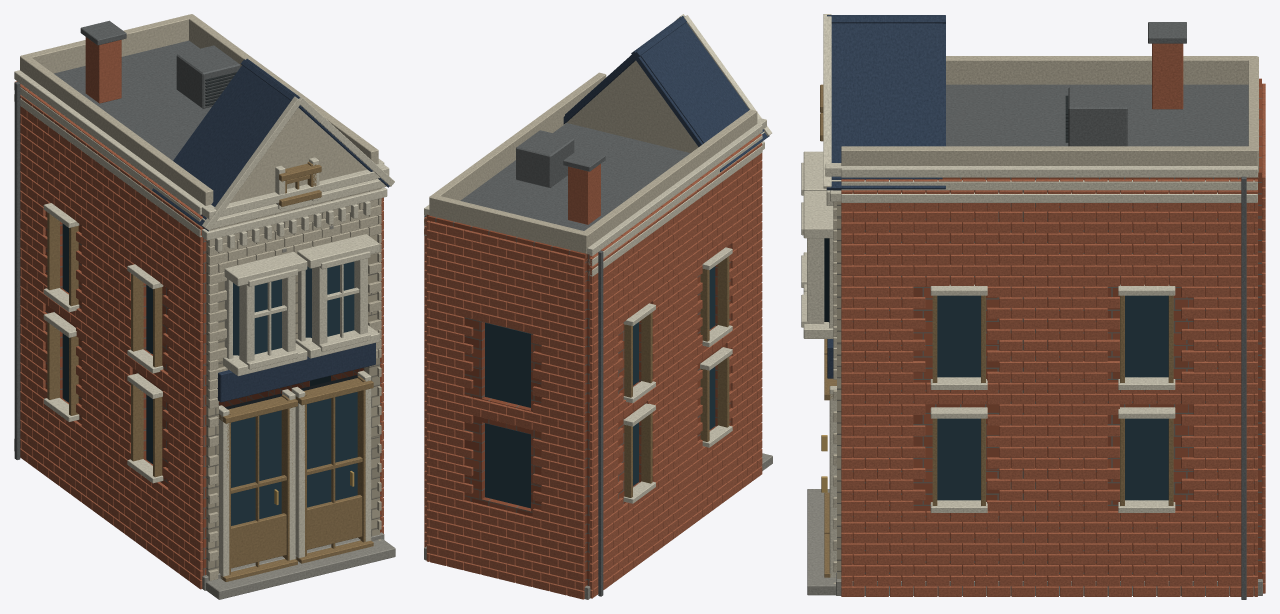
Rendered from BUSS7_lod0.glb.
The picture shows the model from 3 angles, left to right: view 1: azimuth 30°, elevation 25°; view 2: azimuth 150°, elevation 25°; view 3: azimuth 270°, elevation 25°; orthographic projection. The views are drawn at different scales.
Parts seen in each view (by area): view 1: BUSS7_LOD0; view 2: BUSS7_LOD0; view 3: BUSS7_LOD0.
Part boxes in pixels (x1=…): BUSS7_LOD0: x1=14, y1=14, x2=395, y2=599; BUSS7_LOD0: x1=424, y1=14, x2=772, y2=599; BUSS7_LOD0: x1=801, y1=14, x2=1265, y2=599.
Bounding box in the file's own units: 3.71 × 8.45 × 6.69.
Materials: 17 (14 with a texture image).
